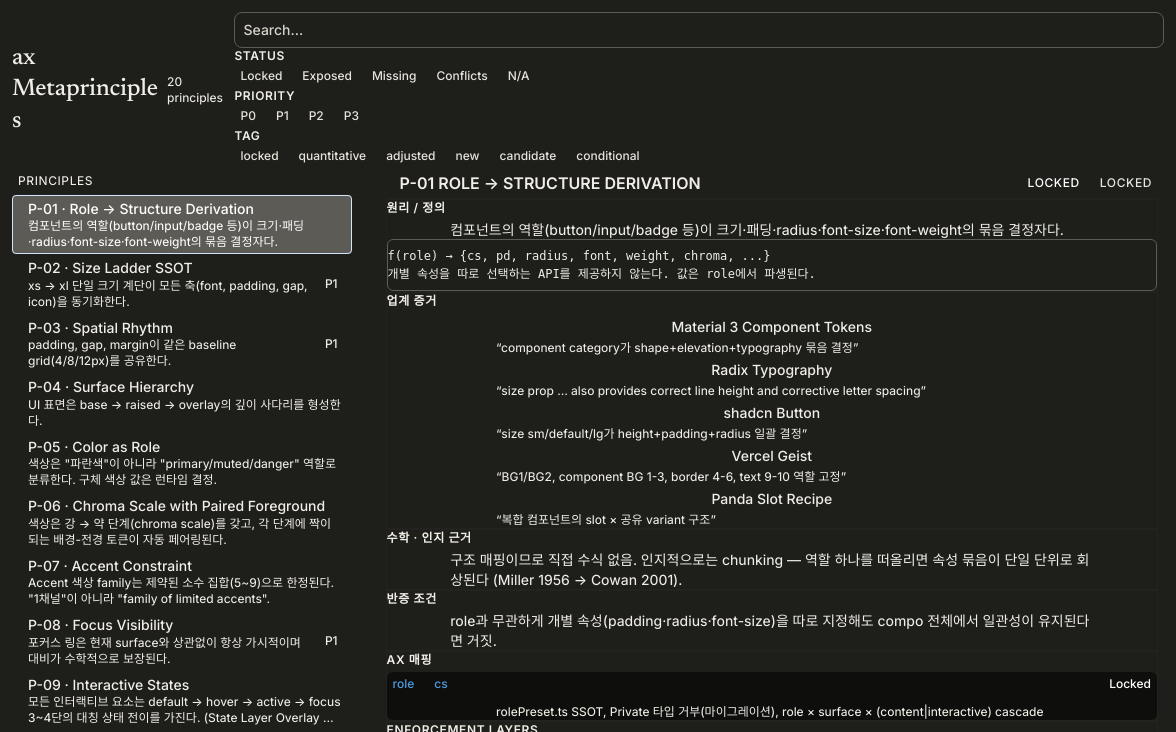
Test: /ax-principles — screen integration › Tag filter "quantitative" reduces list to 9 principles
The image size is (1176, 732).
Click the button "quantitative" at x=332, y=156, box x1=293 y1=144 x2=372 y2=168
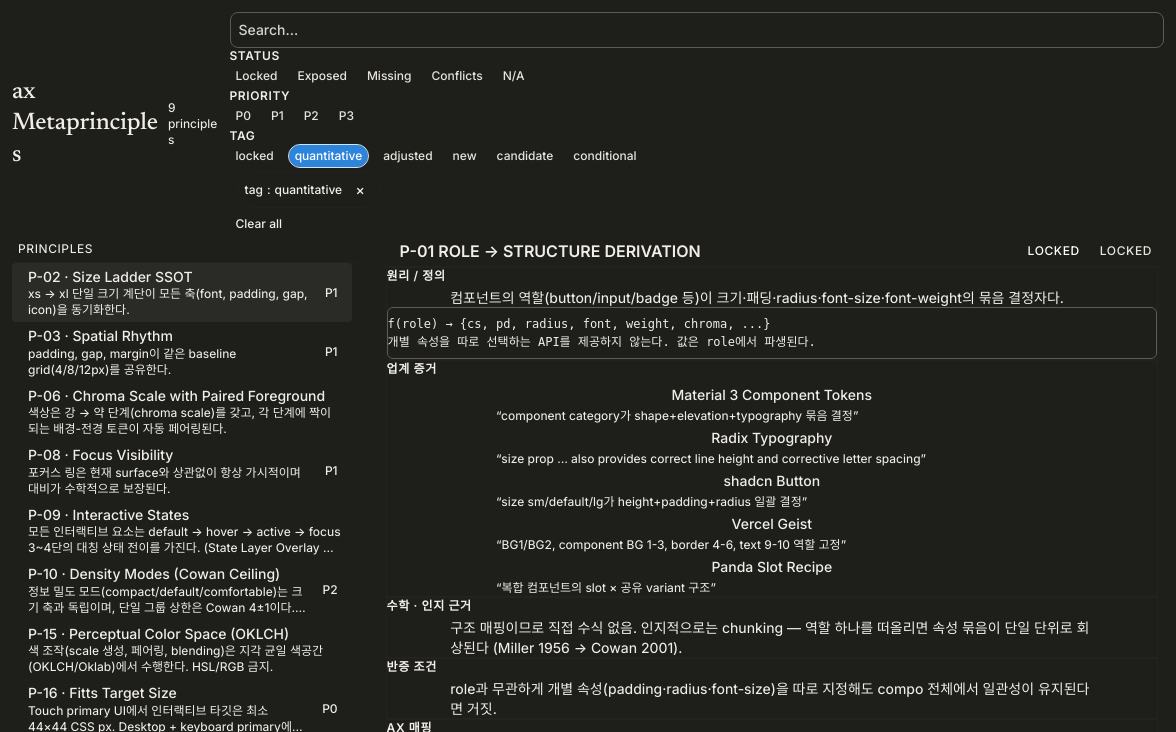
Expected: the number of options is 9
